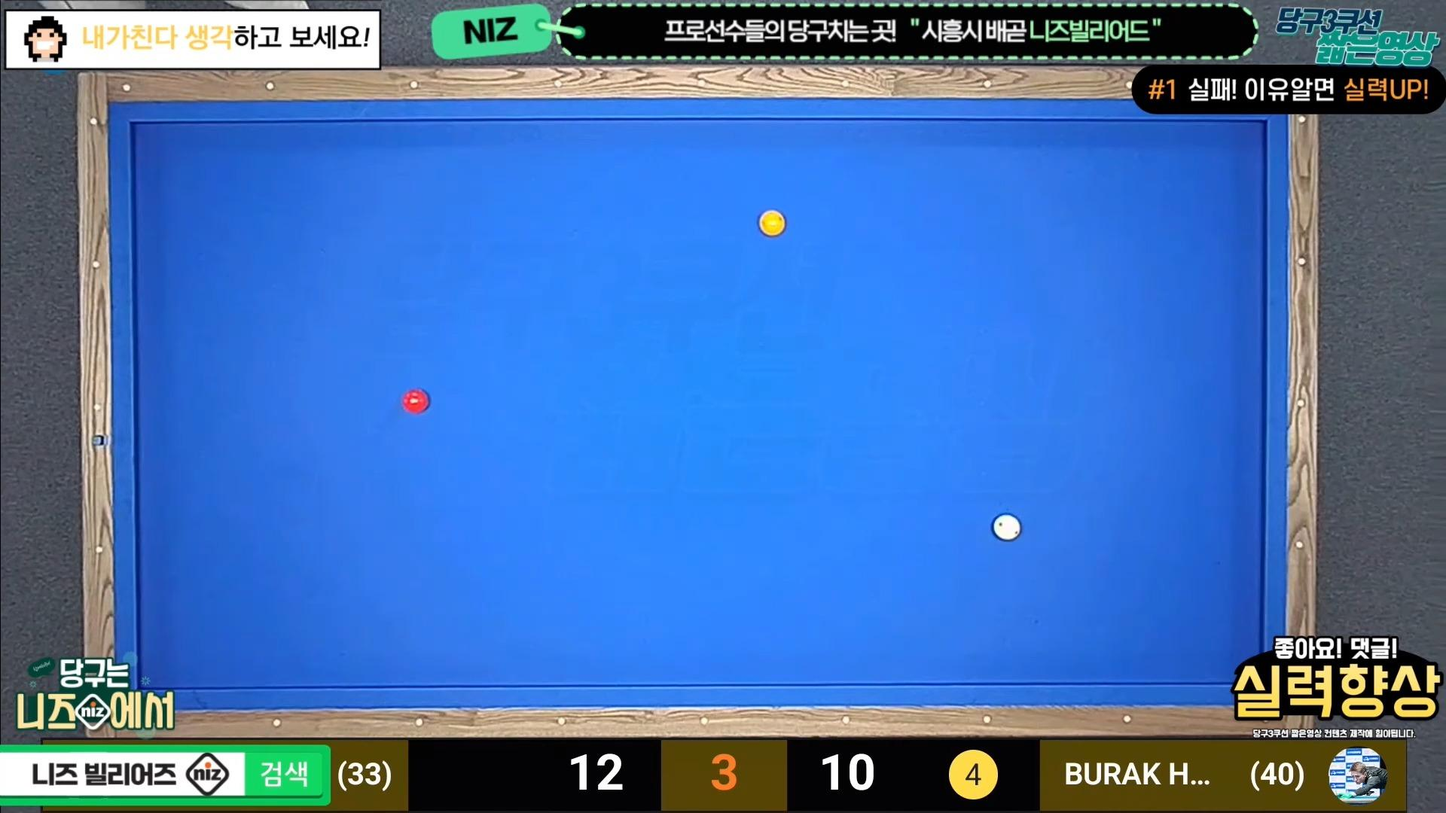-billiard-ball: (991, 513, 1020, 541), (758, 209, 786, 237)
Red: (399, 390, 434, 416)
White: (992, 516, 1027, 543)
Yellow: (759, 210, 792, 240)
